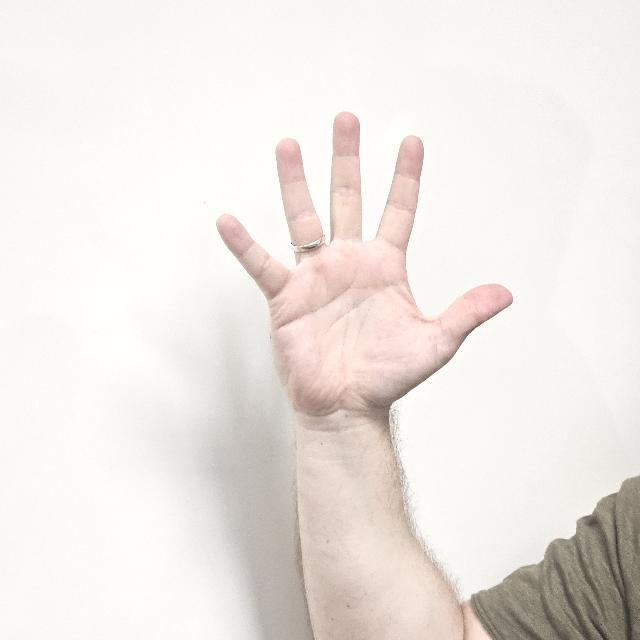X: (211, 111, 513, 451)
